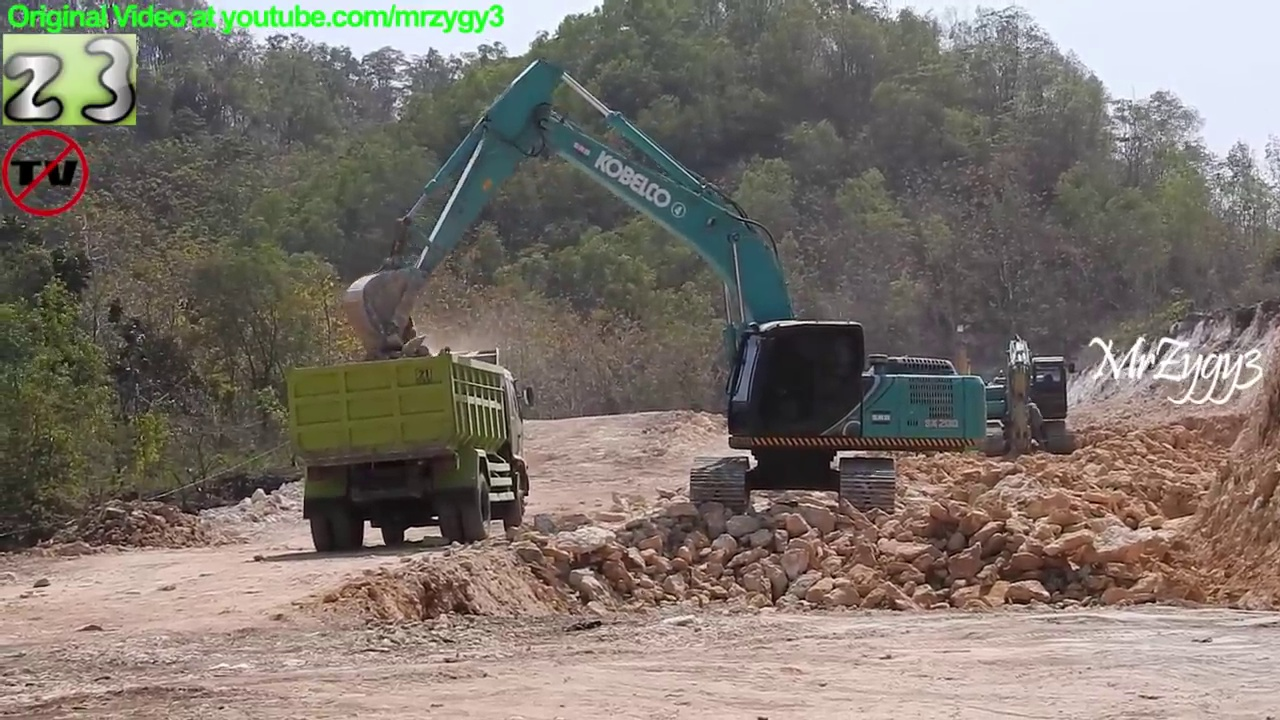excavator: (337, 54, 993, 523), (957, 328, 1082, 464), (919, 319, 1005, 451)
truck: (279, 343, 540, 557)
worker: (1020, 390, 1053, 458)
